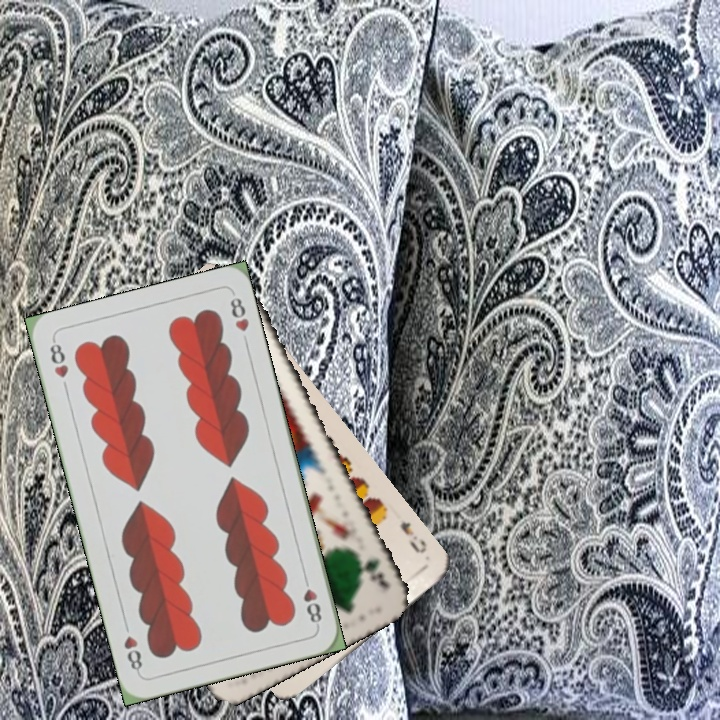E9: (396, 517, 430, 556)
GK: (361, 554, 393, 593)
H8: (299, 571, 325, 629), (45, 336, 71, 381)
